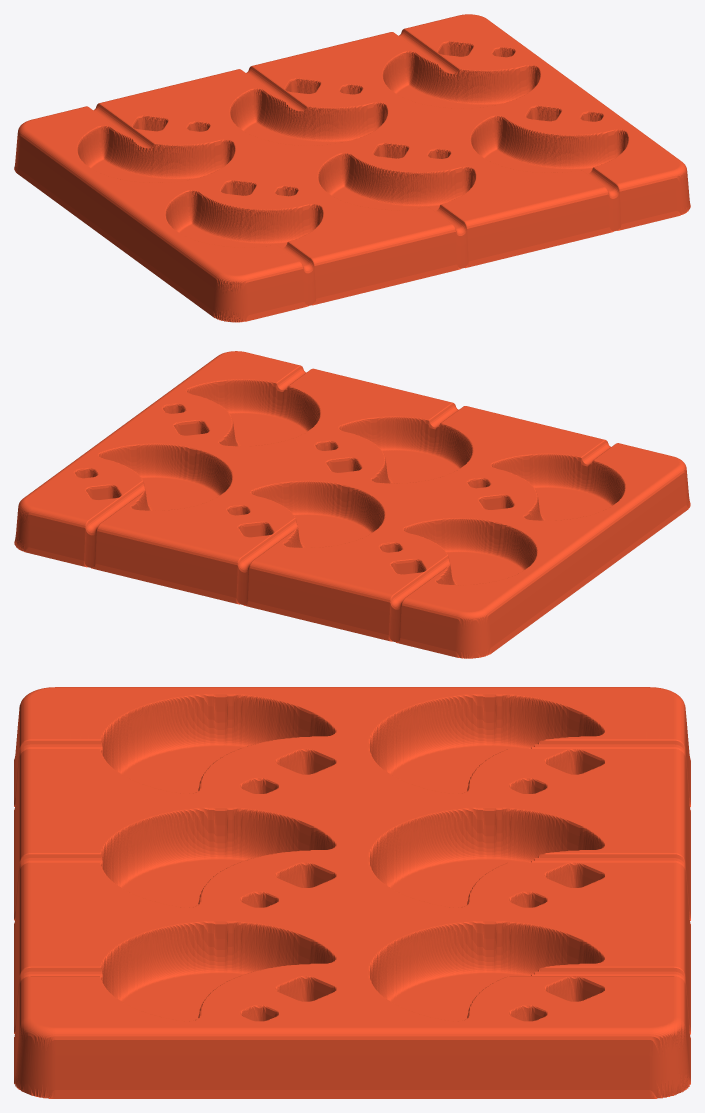
The model's file is mold.glb.
3 renders of one model, top to bottom at view 1: azimuth 30°, elevation 25°; view 2: azimuth 150°, elevation 25°; view 3: azimuth 270°, elevation 25°, orthographic. The views are drawn at different scales.
Parts seen in each view (by area): view 1: geometry_0; view 2: geometry_0; view 3: geometry_0.
Boxes of the visible parts, left/top/right/bottom form: geometry_0: left=14, top=14, right=690, bottom=322; geometry_0: left=14, top=351, right=690, bottom=658; geometry_0: left=14, top=687, right=690, bottom=1098.
Bounding box in the file's own units: 0.1824 × 0.0155 × 0.1477.
